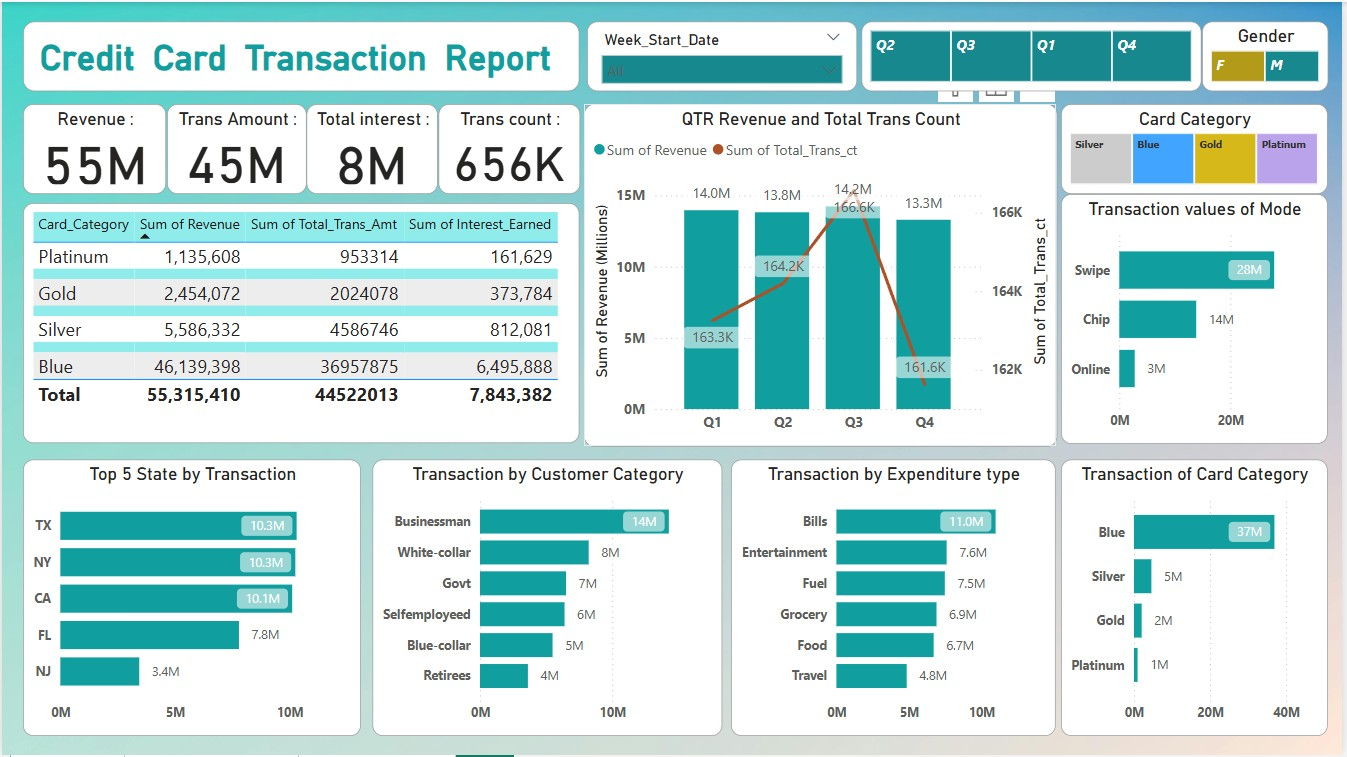

The dashboard page shown, as its layout file describes it:
{"tool":"powerbi","page":{"name":"cc transaction","canvas":[1280,720],"ordinal":1},"visuals":[{"type":"textbox","box":[20.7,19.1,531.3,66.8],"z":0},{"type":"lineStackedColumnComboChart","title":"QTR Revenue and Total Trans Count","fields":{"Category":["credit_cards.Qtr"],"Y":["Sum(credit_cards.Revenue)"],"Y2":["Sum(credit_cards.Total_Trans_Vol)"]},"box":[555.1,97,451.7,327.7],"z":1000},{"type":"barChart","title":"Transaction by Expenditure type","fields":{"Category":["credit_cards.Exp_Type"],"Y":["Sum(credit_cards.Total_Trans_Amt)"]},"box":[696.7,437.4,310.2,264],"z":2000},{"type":"barChart","title":"Top 5 State by Transaction","fields":{"Y":["Sum(credit_cards.Total_Trans_Amt)"],"Category":["customers.state_cd"]},"box":[20.7,437.4,322.9,264],"z":3000},{"type":"barChart","title":"Transaction by Customer Category","fields":{"Category":["customers.Customer_Job"],"Y":["Sum(credit_cards.Total_Trans_Amt)"]},"box":[353.1,437.4,334,264],"z":4000},{"type":"barChart","title":"Transaction values of Mode ","fields":{"Category":["credit_cards.Use_Chip"],"Y":["Sum(credit_cards.Total_Trans_Amt)"]},"box":[1011.6,182.9,254.5,238.6],"z":5000},{"type":"barChart","title":"Transaction of Card Category","fields":{"Category":["credit_cards.Card_Category"],"Y":["Sum(credit_cards.Total_Trans_Amt)"]},"box":[1011.6,437.4,254.5,264],"z":6000},{"type":"tableEx","fields":{"Values":["credit_cards.Card_Category","Sum(credit_cards.Revenue)","Sum(credit_cards.Total_Trans_Amt)","Sum(credit_cards.Interest_Earned)"]},"box":[20.7,192.5,531.3,229],"z":7000},{"type":"card","title":"Revenue :","fields":{"Values":["Sum(credit_cards.Revenue)"]},"box":[20.7,97,136.8,85.9],"z":8000},{"type":"card","title":"Trans Amount :","fields":{"Values":["Sum(credit_cards.Total_Trans_Amt)"]},"box":[157.5,97,133.6,85.9],"z":9000},{"type":"card","title":"Total interest :","fields":{"Values":["Sum(credit_cards.Interest_Earned)"]},"box":[291.1,97,125.7,85.9],"z":10000},{"type":"card","title":"Trans count :","fields":{"Values":["Sum(credit_cards.Total_Trans_ct)"]},"box":[416.7,97,135.2,85.9],"z":11000},{"type":"treemap","fields":{"Group":["credit_cards.Qtr"],"Values":["CountNonNull(credit_cards.Client_Num)"]},"box":[820.8,19.1,324.5,66.8],"z":12000},{"type":"slicer","fields":{"Values":["credit_cards.Week_Start_Date"]},"box":[558.3,19.1,257.7,66.8],"z":13000},{"type":"treemap","title":"Gender","fields":{"Values":["Avg(credit_cards.Client_Num)"],"Group":["customers.Gender"]},"box":[1145.2,19.1,120.9,66.8],"z":14000},{"type":"treemap","title":"Card Category","fields":{"Values":["Avg(credit_cards.Client_Num)"],"Group":["credit_cards.Card_Category"]},"box":[1011.6,97,254.5,85.9],"z":15000}]}

Visuals, with their boxes in screenshot pixels (x1, y1, x2, y2), scaled from the page's 1280x720 canvas onto the 1347x757 screenshot:
textbox: bbox=[22, 20, 581, 90]
"QTR Revenue and Total Trans Count" lineStackedColumnComboChart: bbox=[584, 102, 1059, 447]
"Transaction by Expenditure type" barChart: bbox=[733, 460, 1060, 737]
"Top 5 State by Transaction" barChart: bbox=[22, 460, 362, 737]
"Transaction by Customer Category" barChart: bbox=[372, 460, 723, 737]
"Transaction values of Mode " barChart: bbox=[1065, 192, 1332, 443]
"Transaction of Card Category" barChart: bbox=[1065, 460, 1332, 737]
tableEx - credit_cards.Card_Category x Sum(credit_cards.Revenue): bbox=[22, 202, 581, 443]
"Revenue :" card: bbox=[22, 102, 166, 192]
"Trans Amount :" card: bbox=[166, 102, 306, 192]
"Total interest :" card: bbox=[306, 102, 439, 192]
"Trans count :" card: bbox=[439, 102, 581, 192]
treemap - credit_cards.Qtr x CountNonNull(credit_cards.Client_Num): bbox=[864, 20, 1205, 90]
slicer - credit_cards.Week_Start_Date: bbox=[588, 20, 859, 90]
"Gender" treemap: bbox=[1205, 20, 1332, 90]
"Card Category" treemap: bbox=[1065, 102, 1332, 192]
